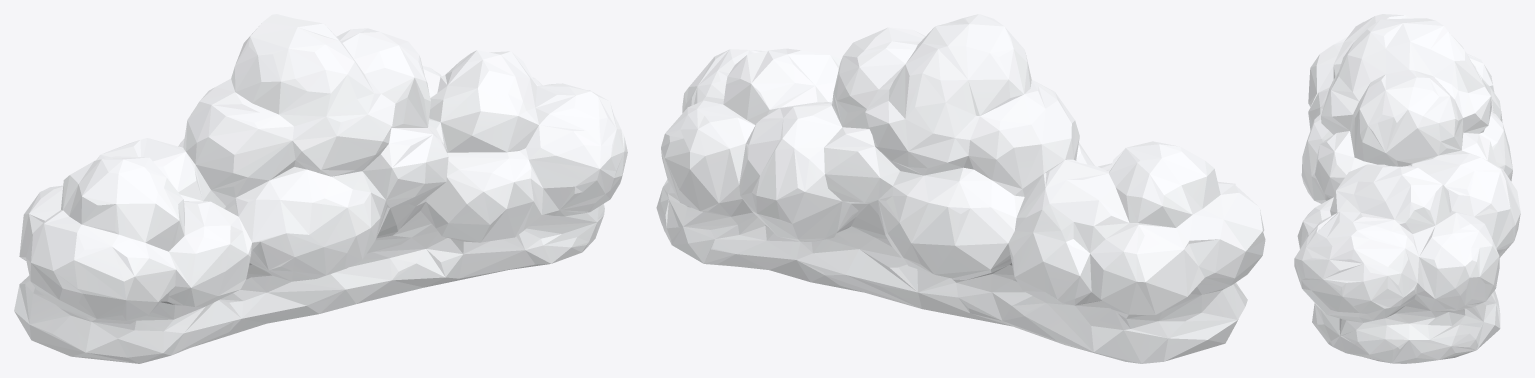
The model's file is cloud_b.glb.
3 views of the same model, side by side, from view 1: azimuth 30°, elevation 25°; view 2: azimuth 150°, elevation 25°; view 3: azimuth 270°, elevation 25° (orthographic). The views are drawn at different scales.
Visible parts, largest first — view 1: cloud_b; view 2: cloud_b; view 3: cloud_b.
Boxes of the visible parts, x1,y1,x2,y2 form: cloud_b: (14,14,627,363); cloud_b: (656,14,1265,363); cloud_b: (1294,14,1520,363).
Size of the model in its own units: 0.9851 by 0.4172 by 0.3892.
1 material, 1 textured.
